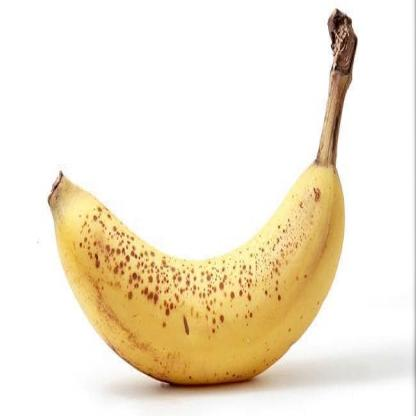banana: (54, 156, 353, 399)
